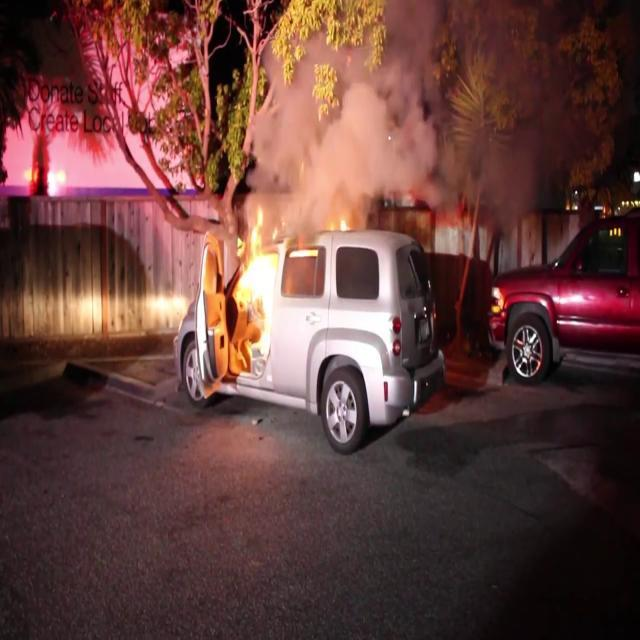Fire: (186, 207, 286, 383)
Smoke: (251, 30, 439, 222), (443, 34, 615, 220)
